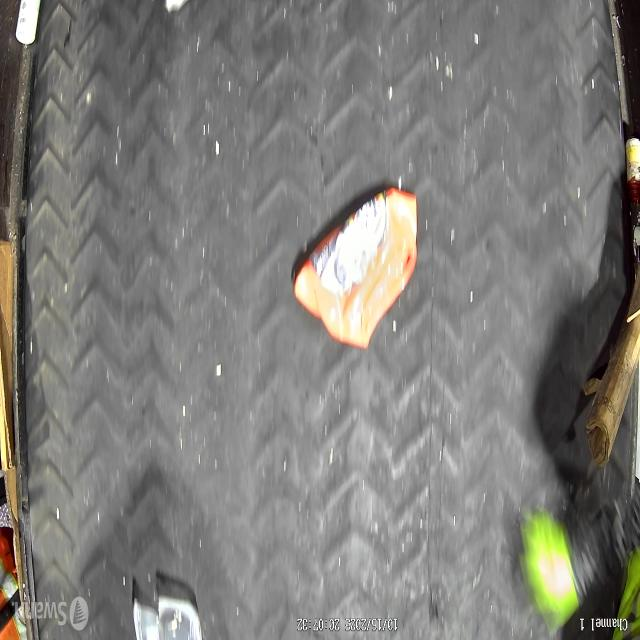non_white_jug: (292, 181, 420, 352)
